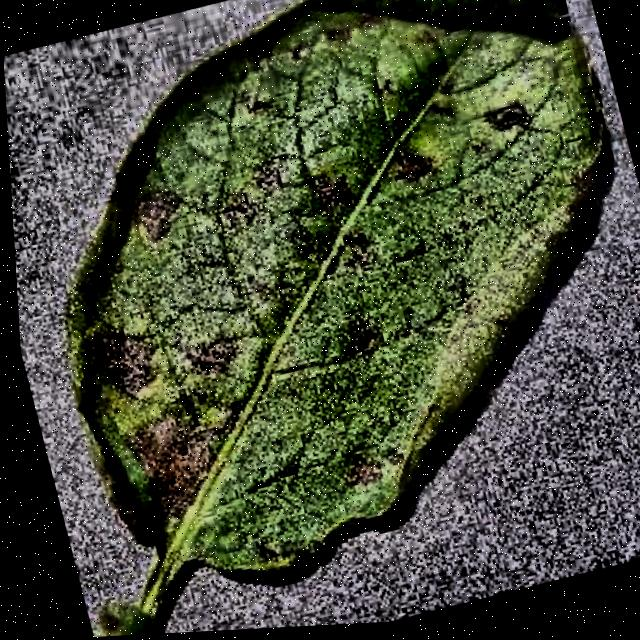Potato_leaf_early_blight: (66, 0, 600, 636)
